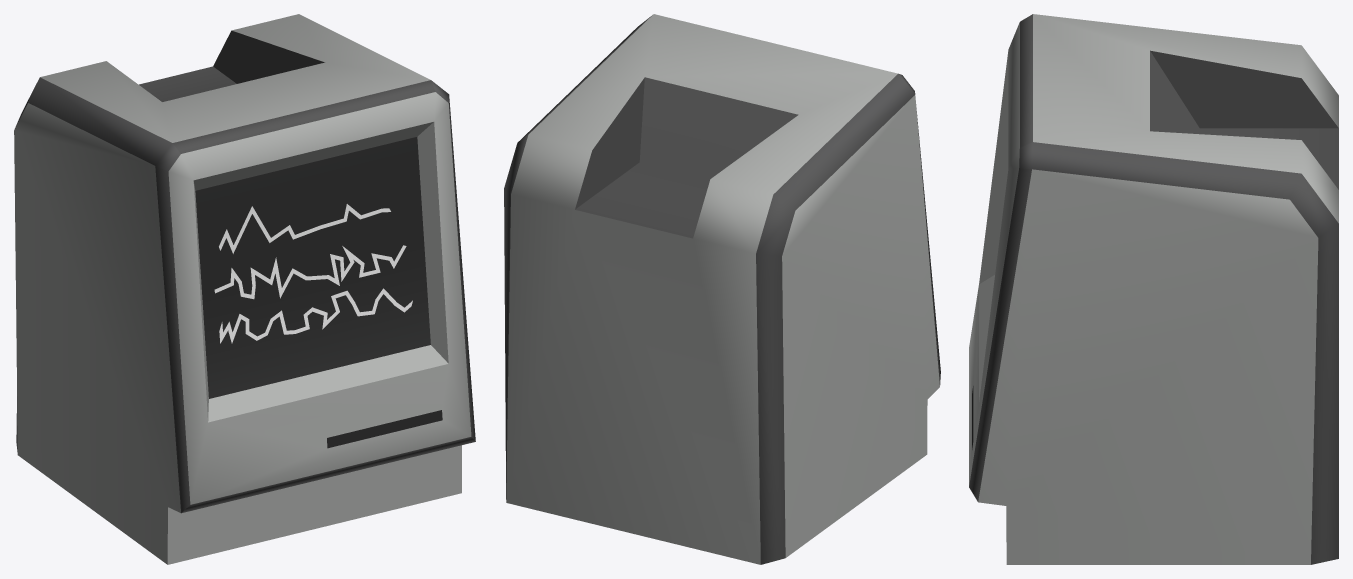
Rendered from Station Computer.fbx.
3 renders of one model, left to right at view 1: azimuth 30°, elevation 25°; view 2: azimuth 150°, elevation 25°; view 3: azimuth 270°, elevation 25°, orthographic. The views are drawn at different scales.
Visible parts, largest first — view 1: Station_Computer; view 2: Station_Computer; view 3: Station_Computer.
Part boxes in pixels (bbox=[...]): Station_Computer: bbox=[14, 14, 475, 564]; Station_Computer: bbox=[504, 14, 940, 564]; Station_Computer: bbox=[969, 14, 1338, 564].
Size of the model in its own units: 157 by 208 by 168.
